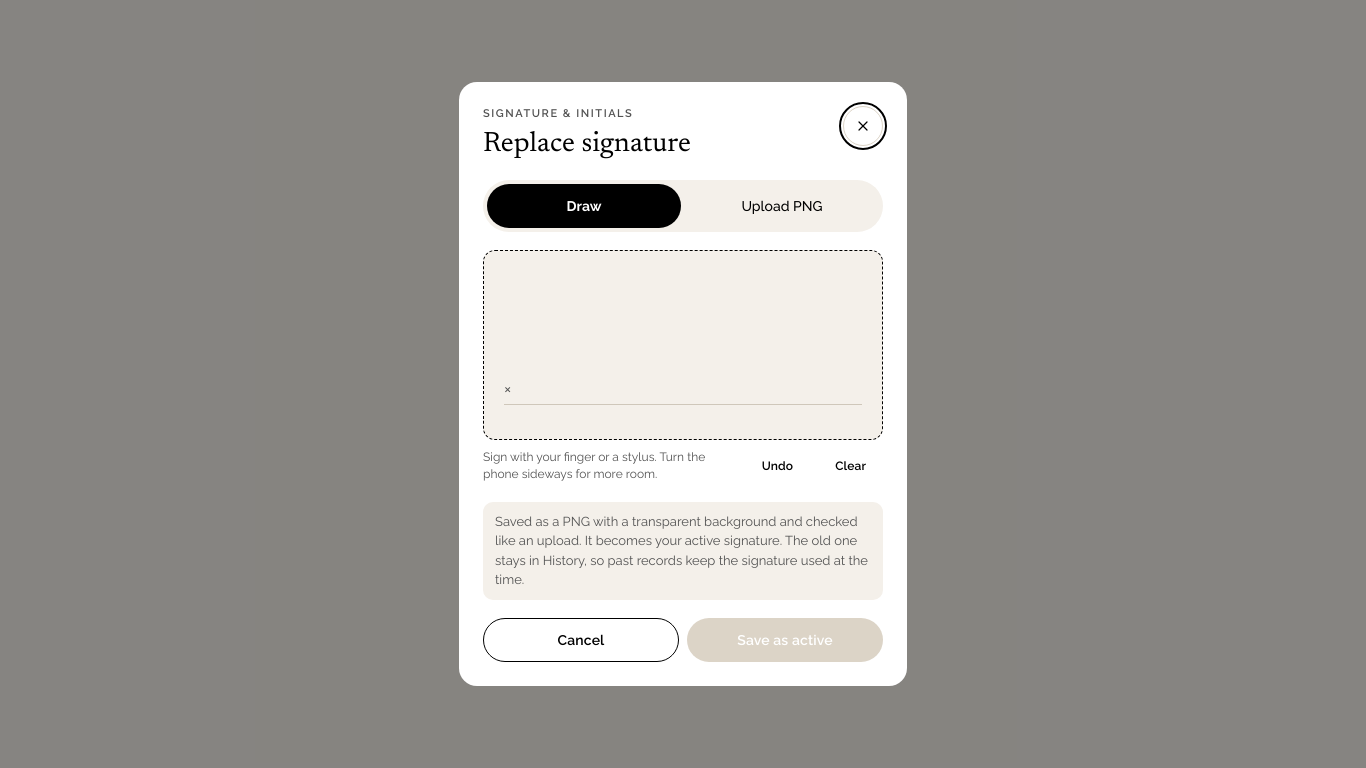
Test: UploadSignatureSheet — Draw › Upload PNG shows the file picker instead of the pad
The width and height of the screenshot is (1366, 768).
Click the radio button labelled "Upload PNG" at (782, 206), box [741,198,823,214]
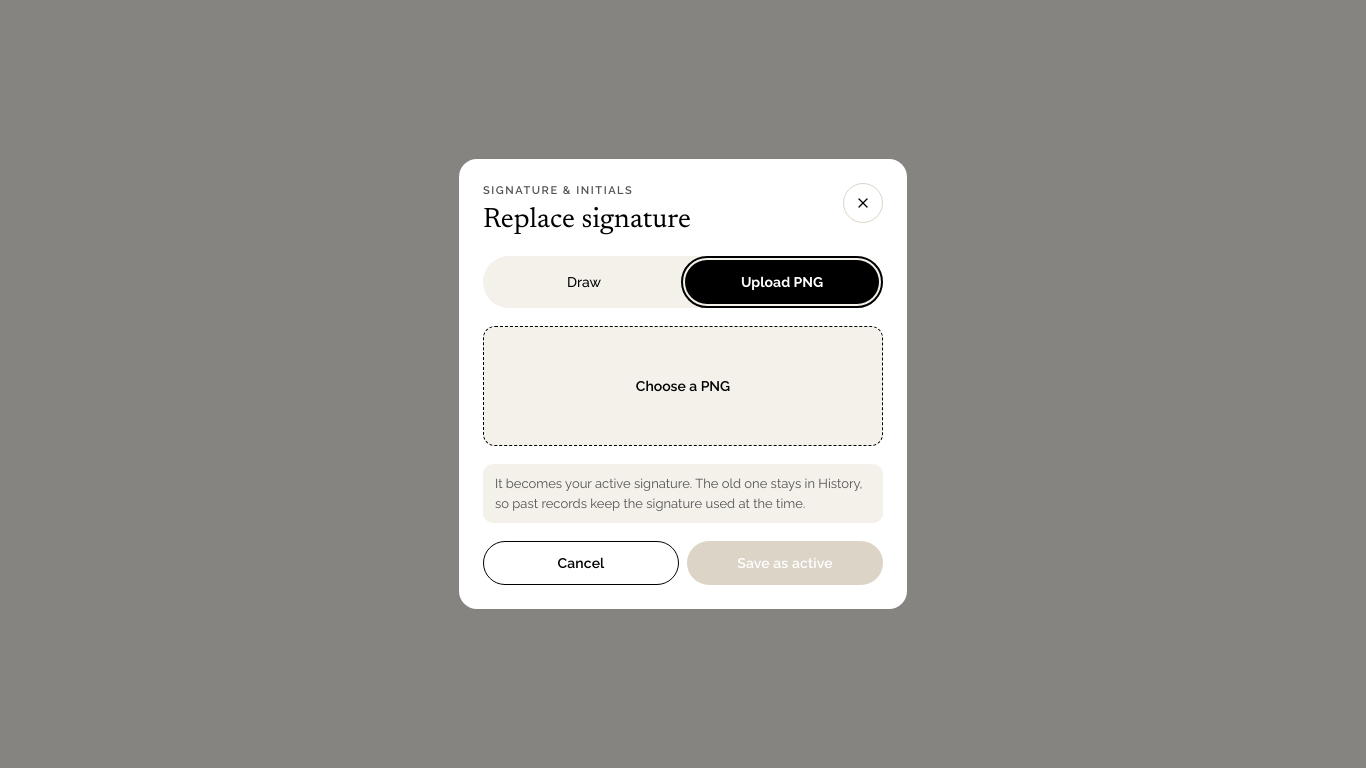
Expected: the file field labelled "Choose a PNG" is shown, [483,326,883,446]
